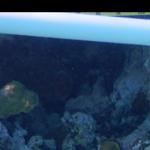dead: (1, 32, 147, 147)
